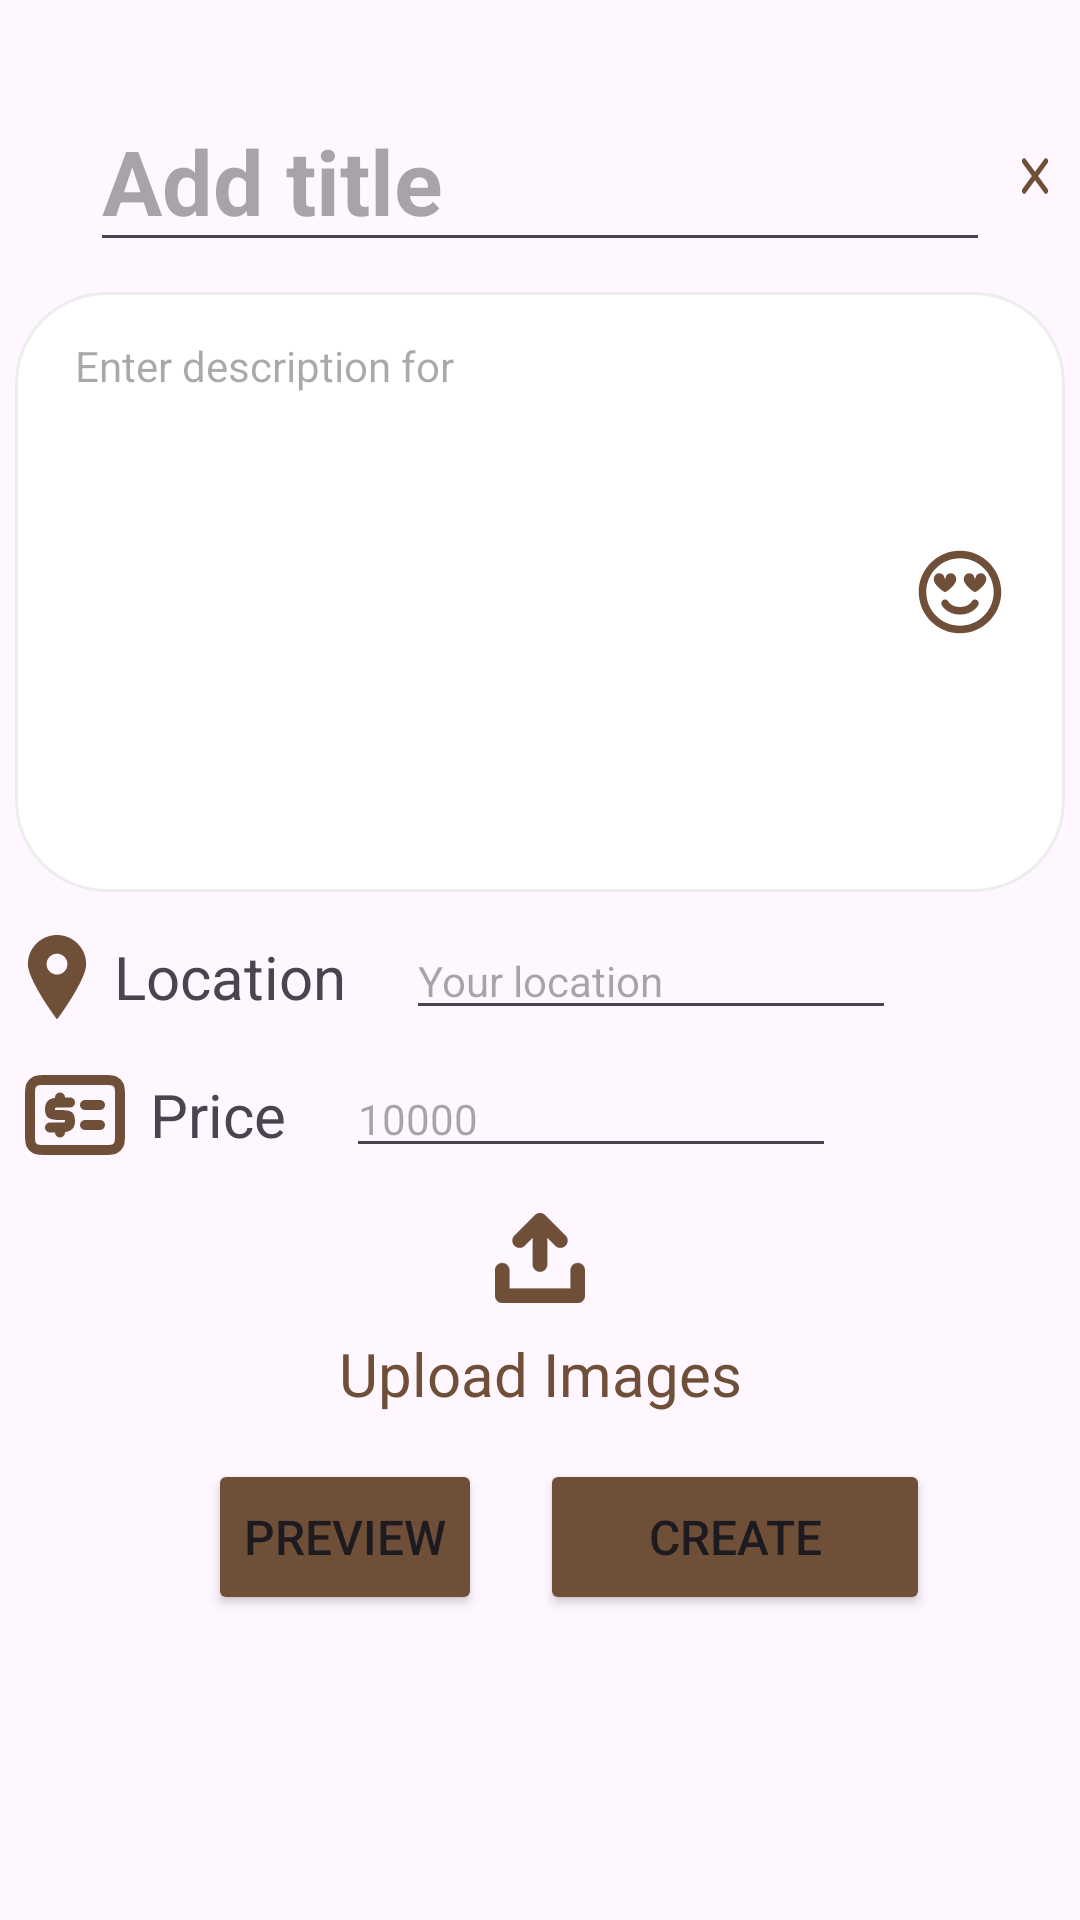

Point at icon controls on the screen. Image size 1080w x 1920h, points as (x,y).
close: (1035,176)
